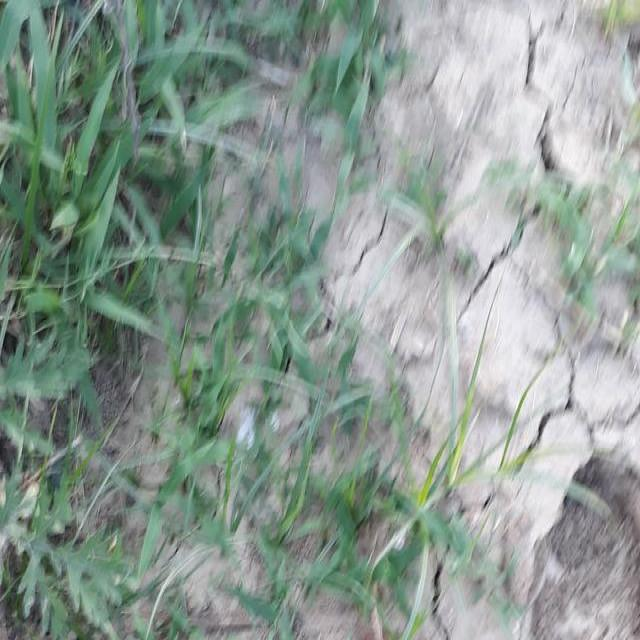weed: (0, 0, 181, 634), (200, 212, 430, 640), (203, 0, 405, 167)
